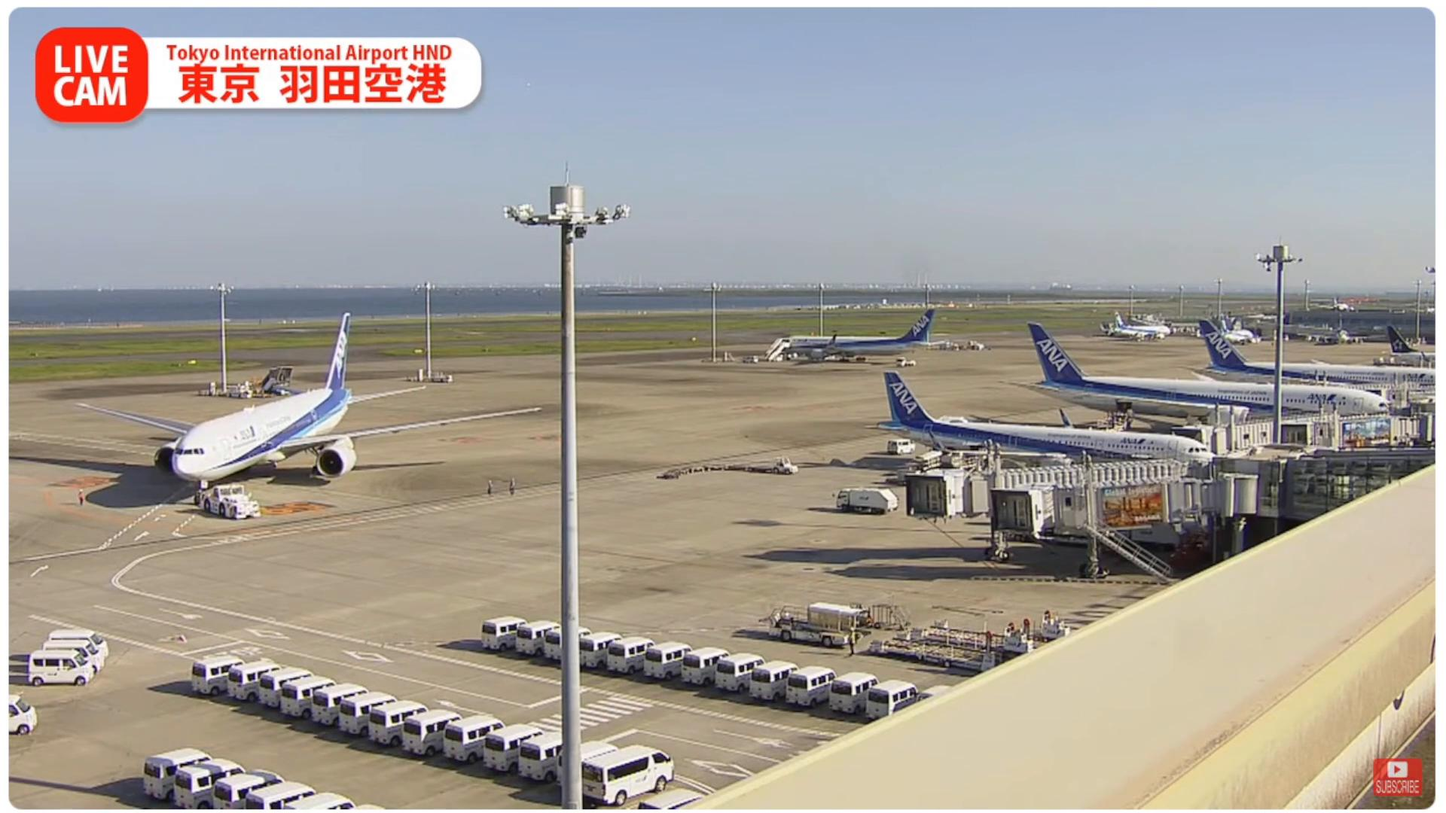APS: (200, 484, 262, 531)
Aerobridge: (904, 456, 1198, 520), (990, 479, 1258, 539)
Airplane: (70, 310, 545, 504)
JCPL: (904, 613, 1077, 658), (867, 634, 1012, 675)
Skyloader: (761, 600, 870, 651)
Window: (1281, 462, 1437, 524)
